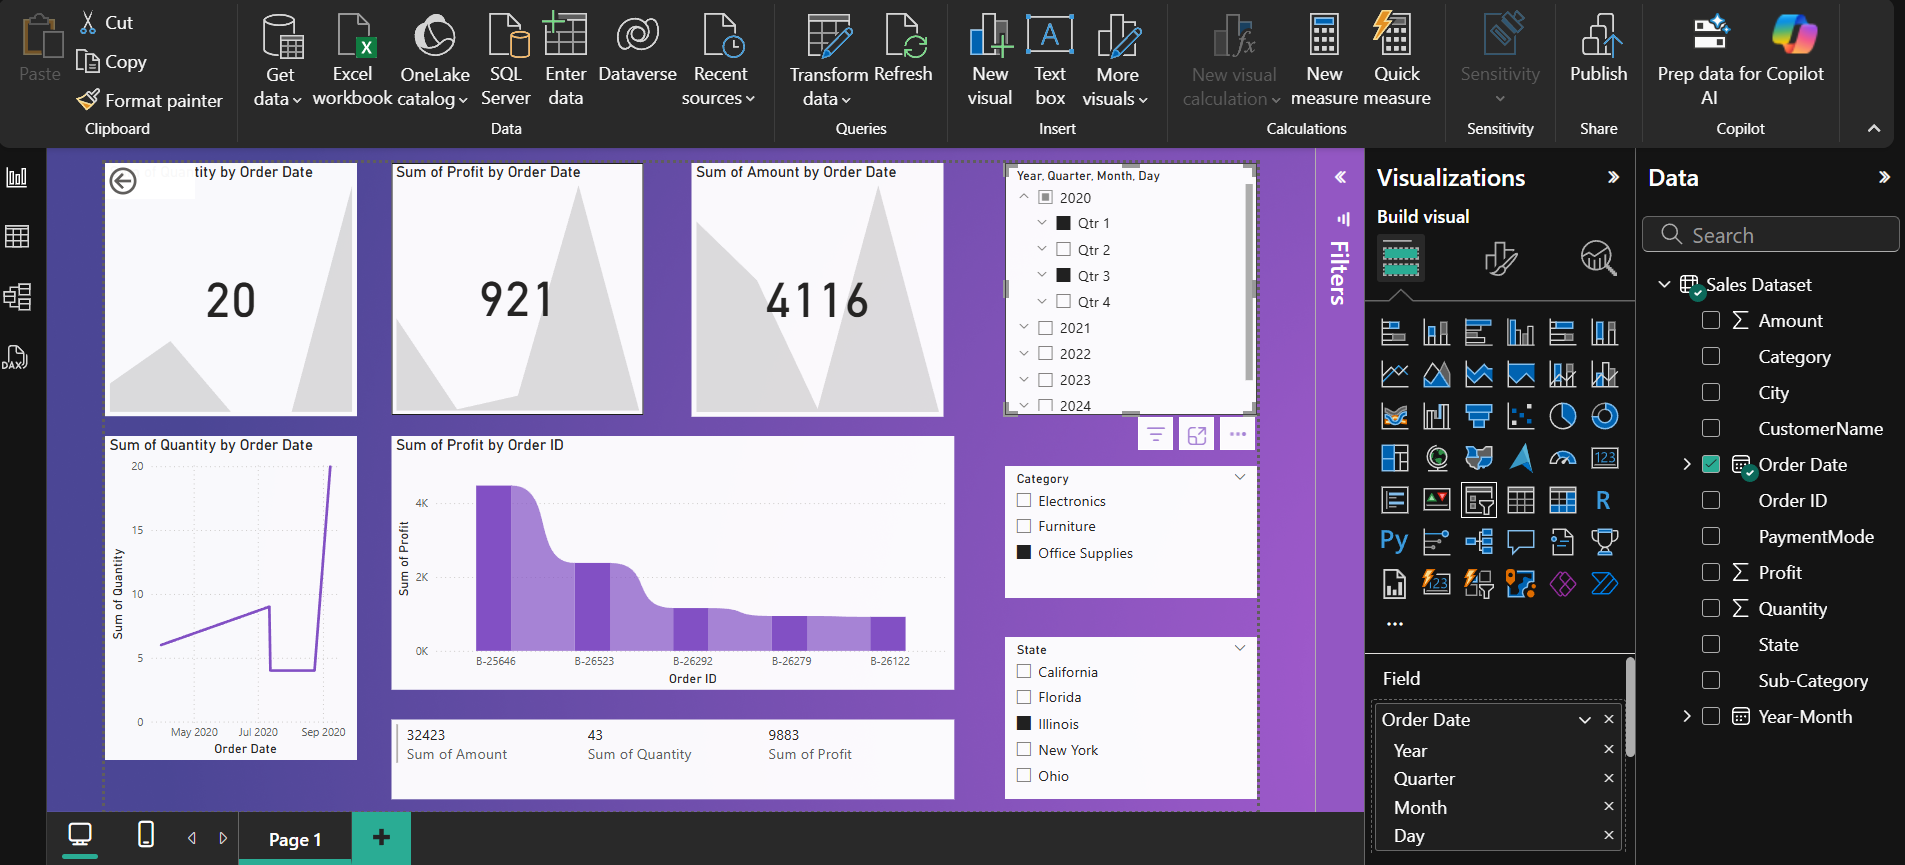

This screenshot's page, from the dashboard's own definition file:
{"tool":"powerbi","page":{"name":"Style-1","canvas":[1280,720],"ordinal":0},"visuals":[{"type":"kpi","fields":{"TrendLine":["Sales Dataset.Order Date"],"Indicator":["Sum(Sales Dataset.Profit)"]},"box":[318,0,280,280],"z":0},{"type":"kpi","fields":{"Indicator":["Sum(Sales Dataset.Quantity)"],"TrendLine":["Sales Dataset.Order Date"]},"box":[0,0,279.7,281.6],"z":1000},{"type":"kpi","fields":{"Indicator":["Sum(Sales Dataset.Amount)"],"TrendLine":["Sales Dataset.Order Date"]},"box":[651.7,0,280,281.7],"z":2000},{"type":"lineChart","fields":{"Y":["Sum(Sales Dataset.Quantity)"],"Category":["Sales Dataset.Order Date"]},"box":[0,303.3,280,360],"z":3000},{"type":"slicer","fields":{"Values":["Sales Dataset.Order Date.Variation.Date Hierarchy.Year","Sales Dataset.Order Date.Variation.Date Hierarchy.Quarter","Sales Dataset.Order Date.Variation.Date Hierarchy.Month","Sales Dataset.Order Date.Variation.Date Hierarchy.Day"]},"box":[1000,0,280,280],"z":4000},{"type":"slicer","fields":{"Values":["Sales Dataset.Category"]},"box":[1000,336.7,280,146.7],"z":5000},{"type":"actionButton","box":[0,0,100,40],"z":6000},{"type":"multiRowCard","fields":{"Values":["Sum(Sales Dataset.Amount)","Sum(Sales Dataset.Quantity)","Sum(Sales Dataset.Profit)"]},"box":[318.3,618.3,625,88.3],"z":6001},{"type":"ribbonChart","fields":{"Category":["Sales Dataset.Order ID"],"Y":["Sum(Sales Dataset.Profit)"]},"box":[318.3,303.3,625,281.7],"z":6002},{"type":"slicer","fields":{"Values":["Sales Dataset.State"]},"box":[1000,526.7,280,180],"z":6003}]}

Visuals, with their boxes on the page's 1280x720 design canvas (x1, y1, x2, y2). These are canvas units, not pixel positions in the 1905x865 screenshot, which may show the page scaled, cropped or inside an application window:
kpi - Sales Dataset.Order Date x Sum(Sales Dataset.Profit): rect(318, 0, 598, 280)
kpi - Sum(Sales Dataset.Quantity) x Sales Dataset.Order Date: rect(0, 0, 280, 282)
kpi - Sum(Sales Dataset.Amount) x Sales Dataset.Order Date: rect(652, 0, 932, 282)
lineChart - Sum(Sales Dataset.Quantity) x Sales Dataset.Order Date: rect(0, 303, 280, 663)
slicer - Sales Dataset.Order Date.Variation.Date Hierarchy.Year x Sales Dataset.Order Date.Variation.Date Hierarchy.Quarter: rect(1000, 0, 1280, 280)
slicer - Sales Dataset.Category: rect(1000, 337, 1280, 483)
actionButton: rect(0, 0, 100, 40)
multiRowCard - Sum(Sales Dataset.Amount) x Sum(Sales Dataset.Quantity): rect(318, 618, 943, 707)
ribbonChart - Sales Dataset.Order ID x Sum(Sales Dataset.Profit): rect(318, 303, 943, 585)
slicer - Sales Dataset.State: rect(1000, 527, 1280, 707)
